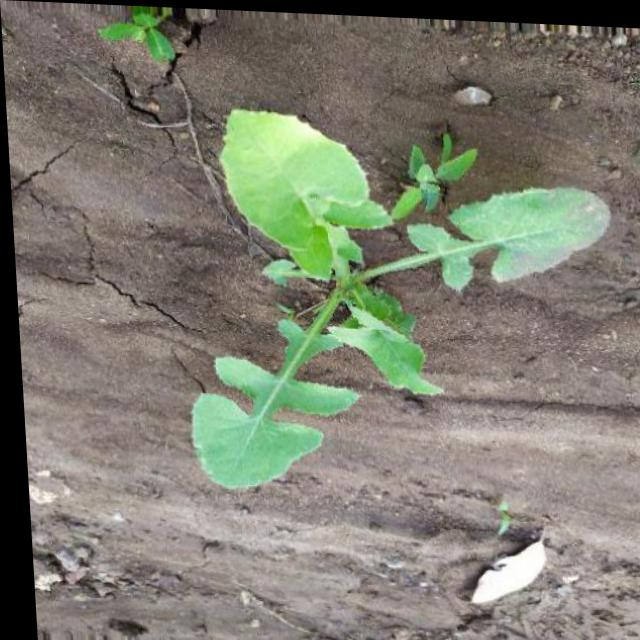crop: (168, 96, 629, 531)
